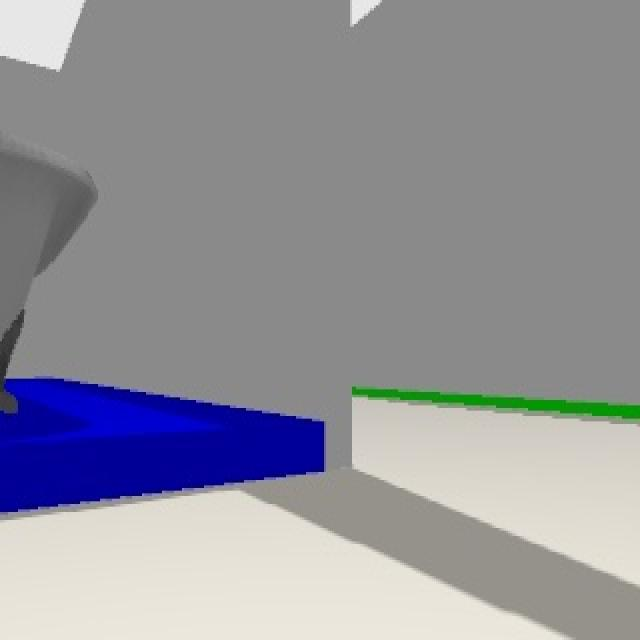bathtub: (0, 141, 98, 416)
